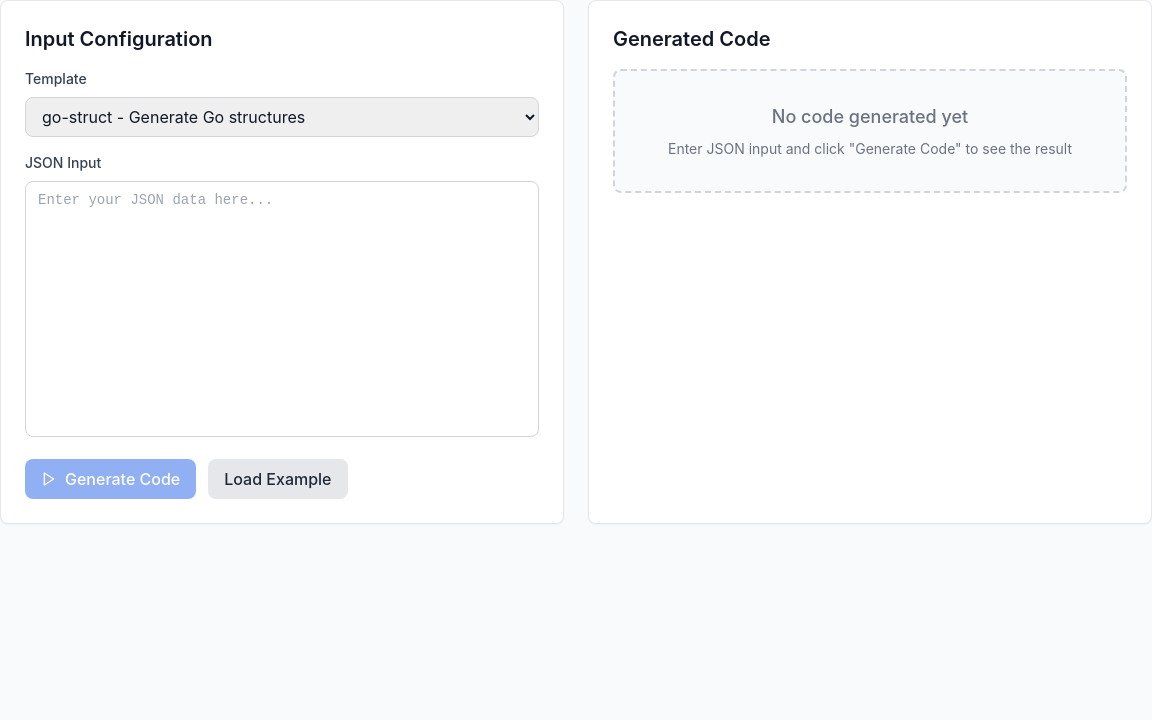
Test: GeneratorForm › shows error when generation fails
Check: the dropdown showing "go-struct - Generate Go structures" is shown, box [25,97,539,137]
Type "invalid json" into the text box with placeholder "Enter your JSON data here..." at (282, 309), box [25,181,539,437]
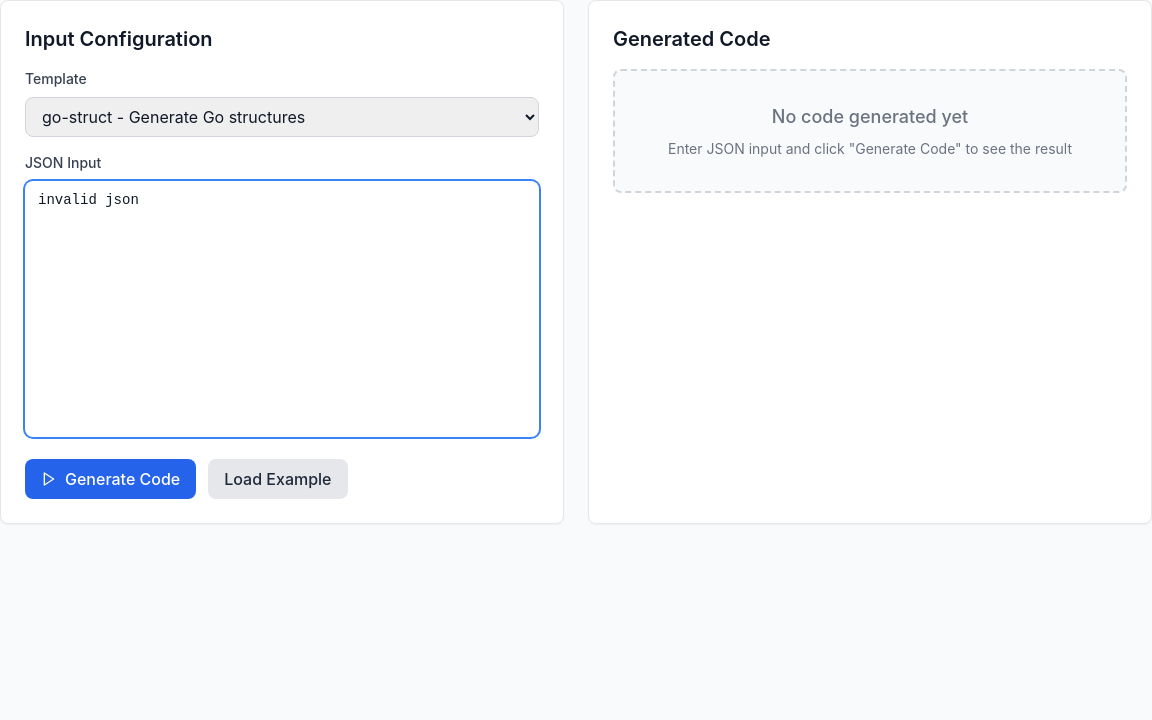
Click the button "Generate Code" at (111, 479), box [25,459,196,499]
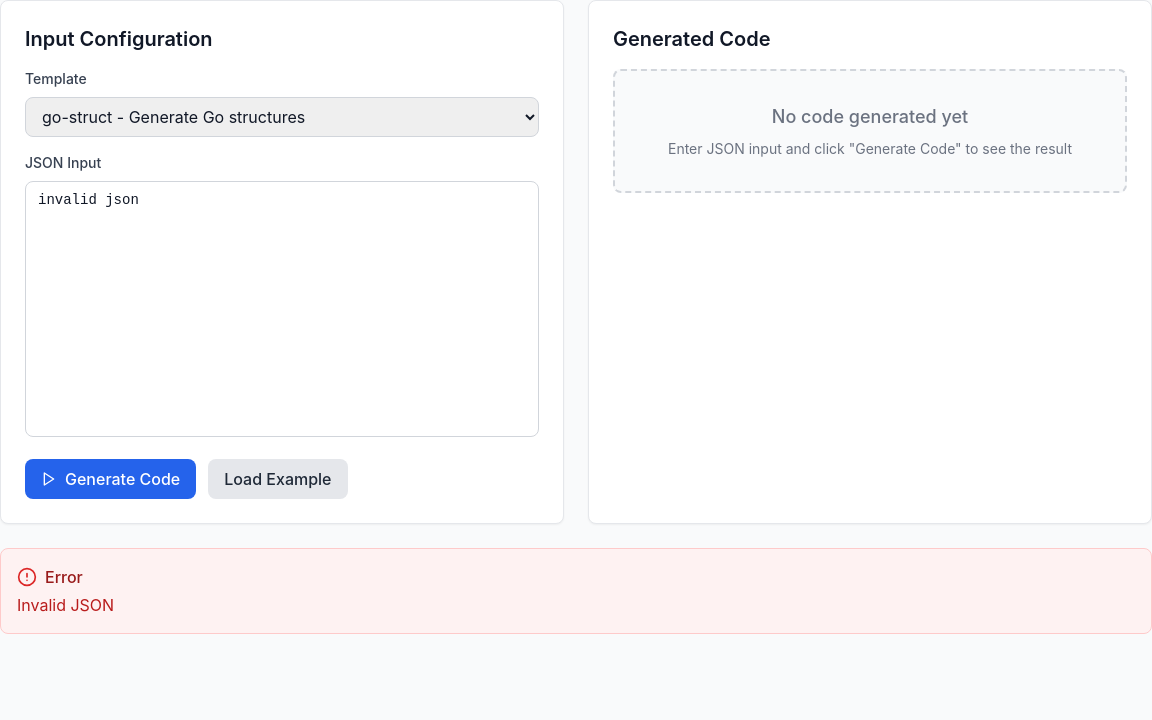
Check: the text "Invalid JSON" is shown, box [17,595,114,615]
